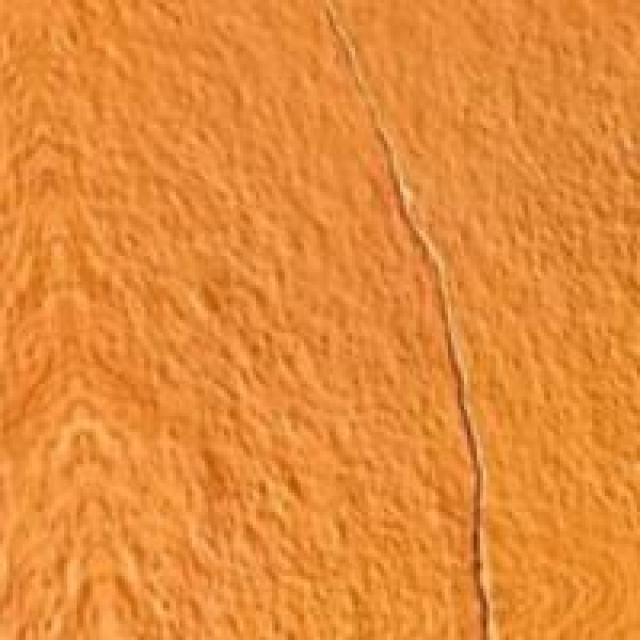crack: (327, 89, 550, 636)
